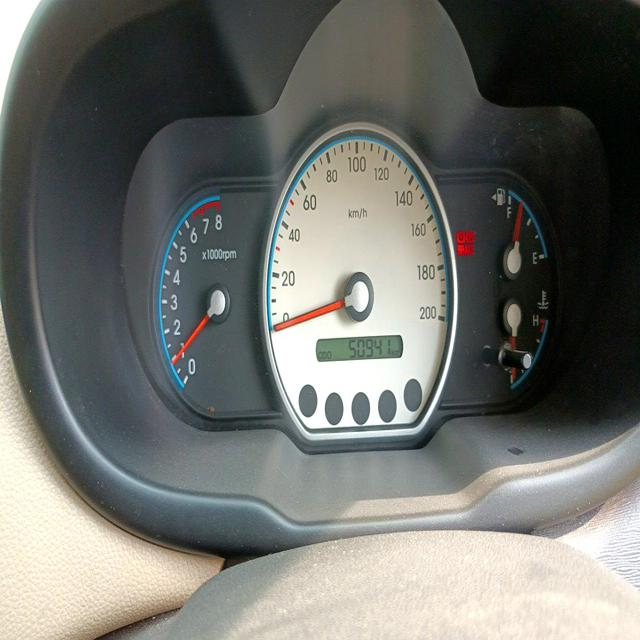odometer: (346, 336, 393, 360)
